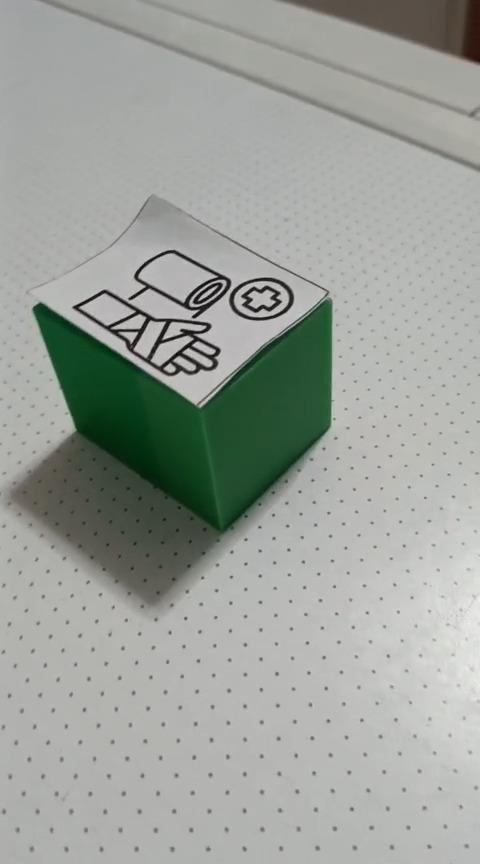Bandages: (26, 192, 333, 532)
